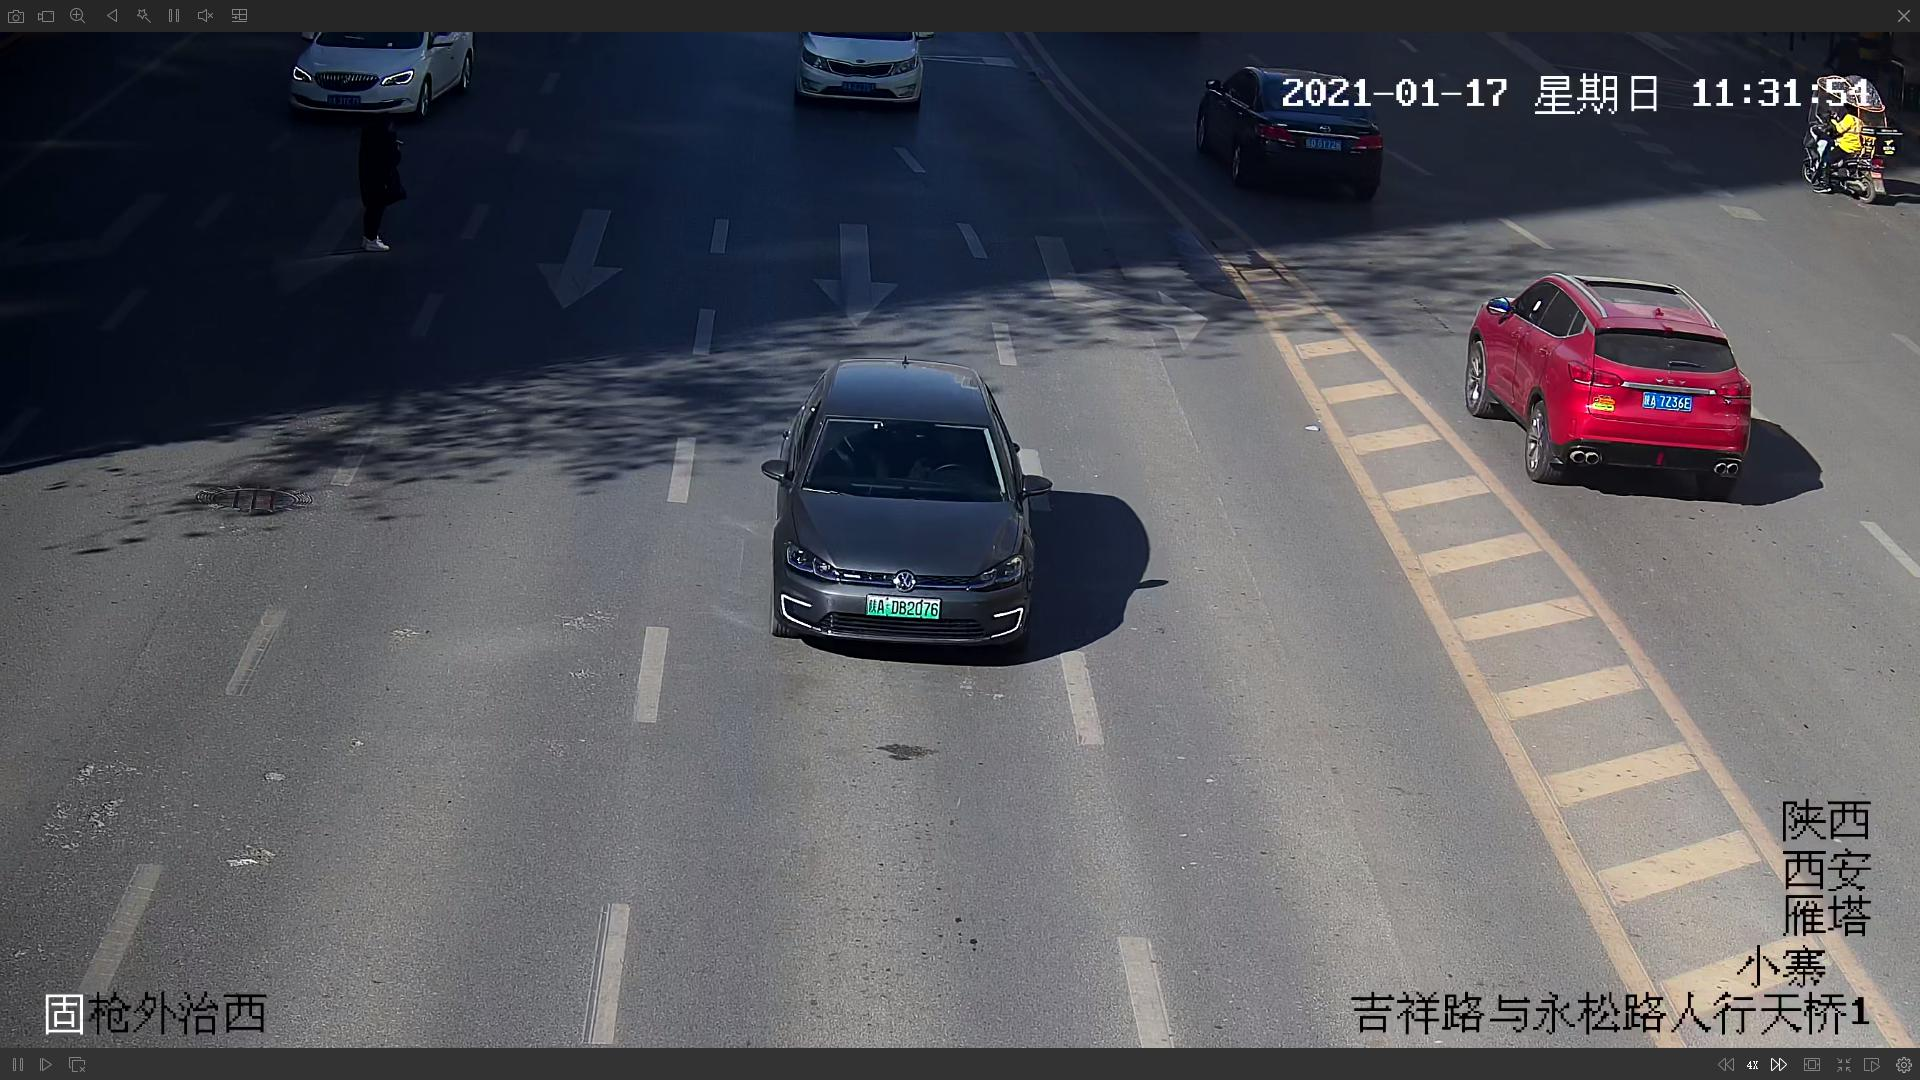dark-gray: (764, 363, 1031, 662)
red: (1447, 277, 1775, 502)
